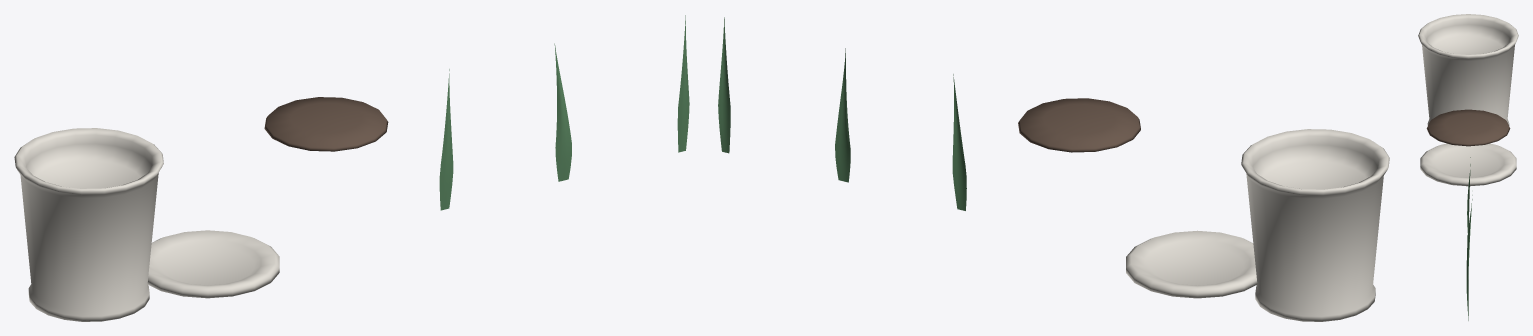
The model's file is snake-plant-components.glb.
The picture shows the model from 3 angles, left to right: view 1: azimuth 30°, elevation 25°; view 2: azimuth 150°, elevation 25°; view 3: azimuth 270°, elevation 25°; orthographic projection. The views are drawn at different scales.
Parts seen in each view (by area): view 1: Pot, Saucer, Soil, BladeB, BladeA, BladeC; view 2: Pot, Saucer, Soil, BladeB, BladeA, BladeC; view 3: Pot, Saucer, Soil, BladeC, BladeB, BladeA.
Part boxes in pixels (x1,y1,x2,y2): Pot: [14, 128, 163, 321]; Saucer: [147, 230, 279, 298]; Soil: [264, 97, 388, 151]; BladeB: [554, 43, 571, 181]; BladeA: [439, 69, 453, 210]; BladeC: [677, 15, 689, 152]; Pot: [1241, 129, 1389, 321]; Saucer: [1126, 230, 1257, 298]; Soil: [1018, 98, 1140, 152]; BladeB: [835, 48, 850, 182]; BladeA: [952, 74, 966, 210]; BladeC: [718, 17, 730, 153]; Pot: [1418, 14, 1518, 125]; Saucer: [1420, 143, 1516, 186]; Soil: [1426, 109, 1510, 146]; BladeC: [1466, 235, 1468, 320]; BladeB: [1467, 195, 1472, 279]; BladeA: [1467, 157, 1470, 232].
Bounding box in the file's own units: 5.05 × 1 × 0.988.
